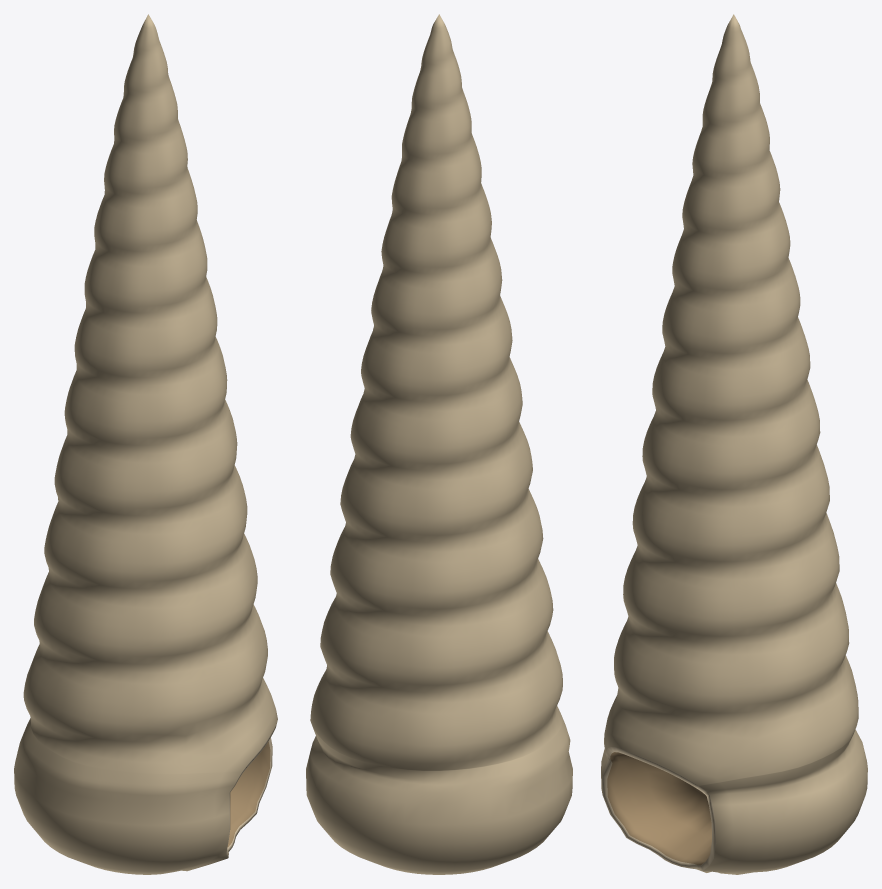
The picture shows the model from 3 angles, left to right: view 1: azimuth 30°, elevation 25°; view 2: azimuth 150°, elevation 25°; view 3: azimuth 270°, elevation 25°; orthographic projection.
Visible parts, largest first — view 1: Continuous_dextral_shell_with_recess; view 2: Continuous_dextral_shell_with_recess; view 3: Continuous_dextral_shell_with_recess.
Boxes of the visible parts, <box> form: Continuous_dextral_shell_with_recess: <box>14,14,277,874</box>; Continuous_dextral_shell_with_recess: <box>306,14,572,874</box>; Continuous_dextral_shell_with_recess: <box>601,14,867,874</box>.
Size of the model in its own units: 0.0075 by 0.026 by 0.0075.
